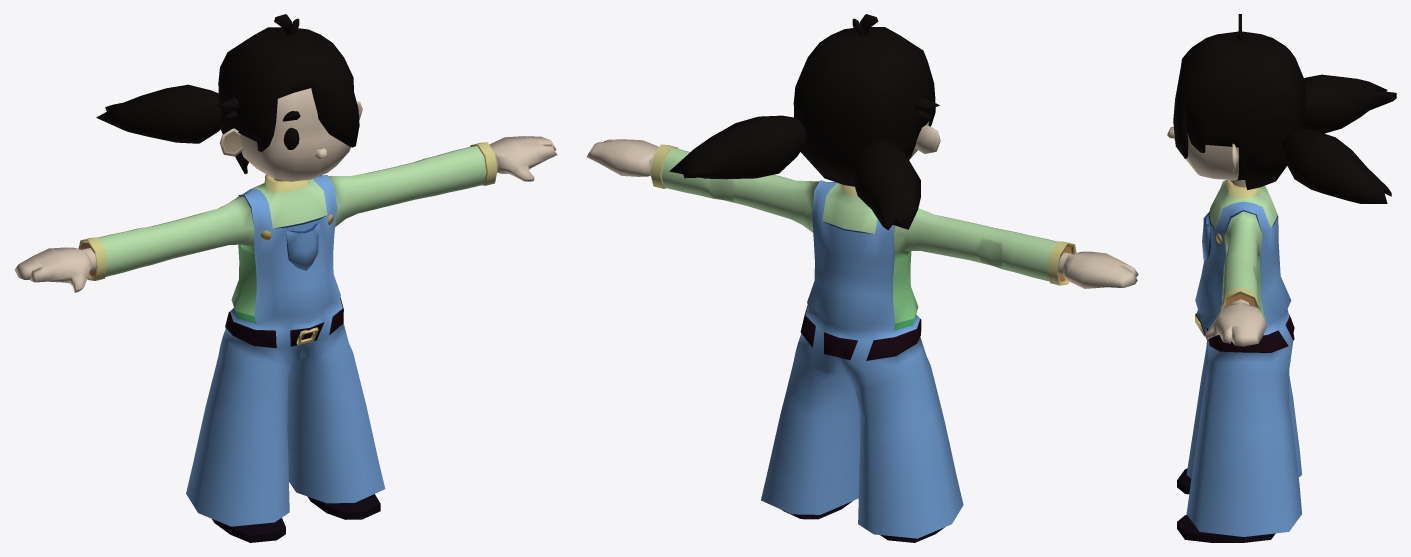
File: Chibi.fbx
The picture shows the model from 3 angles, left to right: view 1: azimuth 30°, elevation 25°; view 2: azimuth 150°, elevation 25°; view 3: azimuth 270°, elevation 25°; orthographic projection. The views are drawn at different scales.
Parts seen in each view (by area): view 1: Chibi; view 2: Chibi; view 3: Chibi.
Boxes of the visible parts, x1,y1,x2,y2 form: Chibi: (14,14,557,542); Chibi: (586,14,1138,542); Chibi: (1167,14,1396,542).
Size of the model in its own units: 186 by 163 by 69.32.
